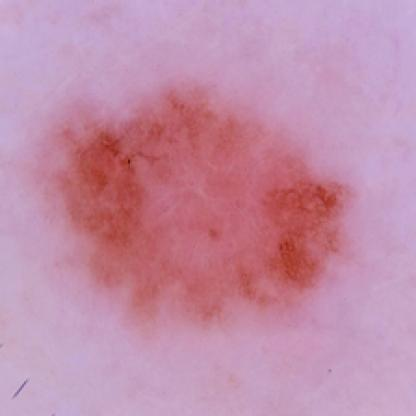Skin_Cancer-Malignant: (54, 82, 353, 326)
